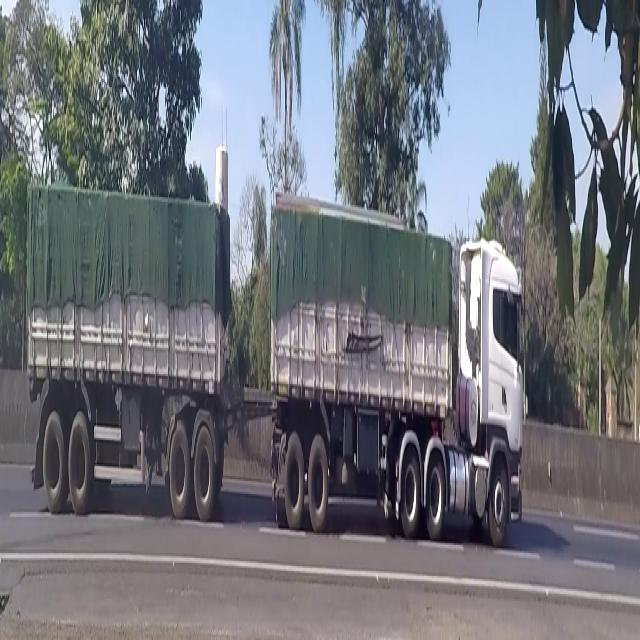-axle: (307, 424, 328, 542), (168, 413, 190, 518), (487, 448, 510, 548), (424, 443, 445, 551), (193, 420, 215, 516), (284, 427, 304, 532), (68, 410, 88, 511), (42, 420, 64, 511), (399, 443, 419, 539)
